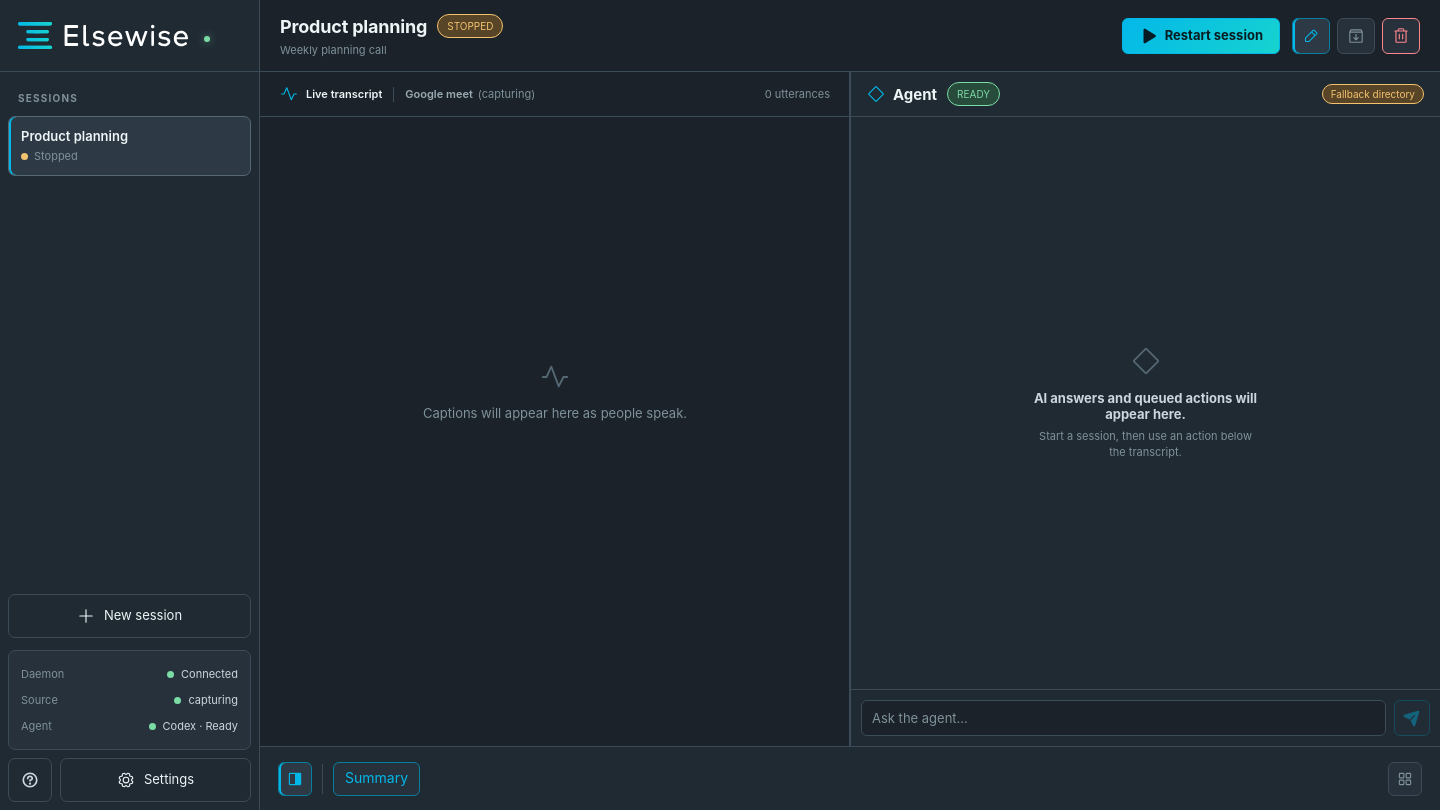
Test: App accessibility › confirms session deletion with an in-app dialog
Expected: the heading "Product planning" is shown, [280,16,427,36]
Click the button named "Delete session". click: [1401, 36]
box: [1382,18,1420,54]
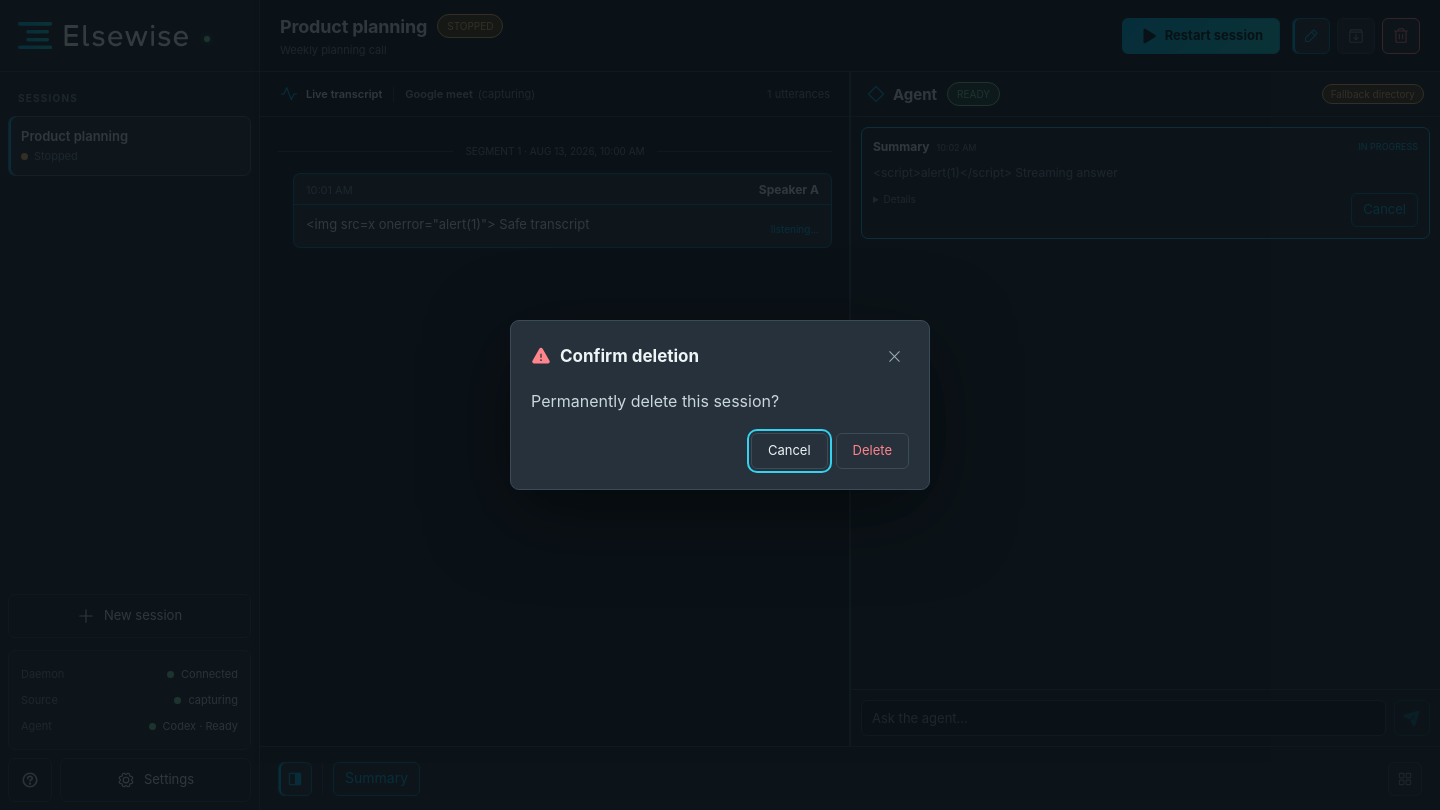
Expected: the text "Permanently delete this session?" is shown, [531,391,779,411]
Click the button "Delete". click: [872, 451]
box: [836,433,909,469]
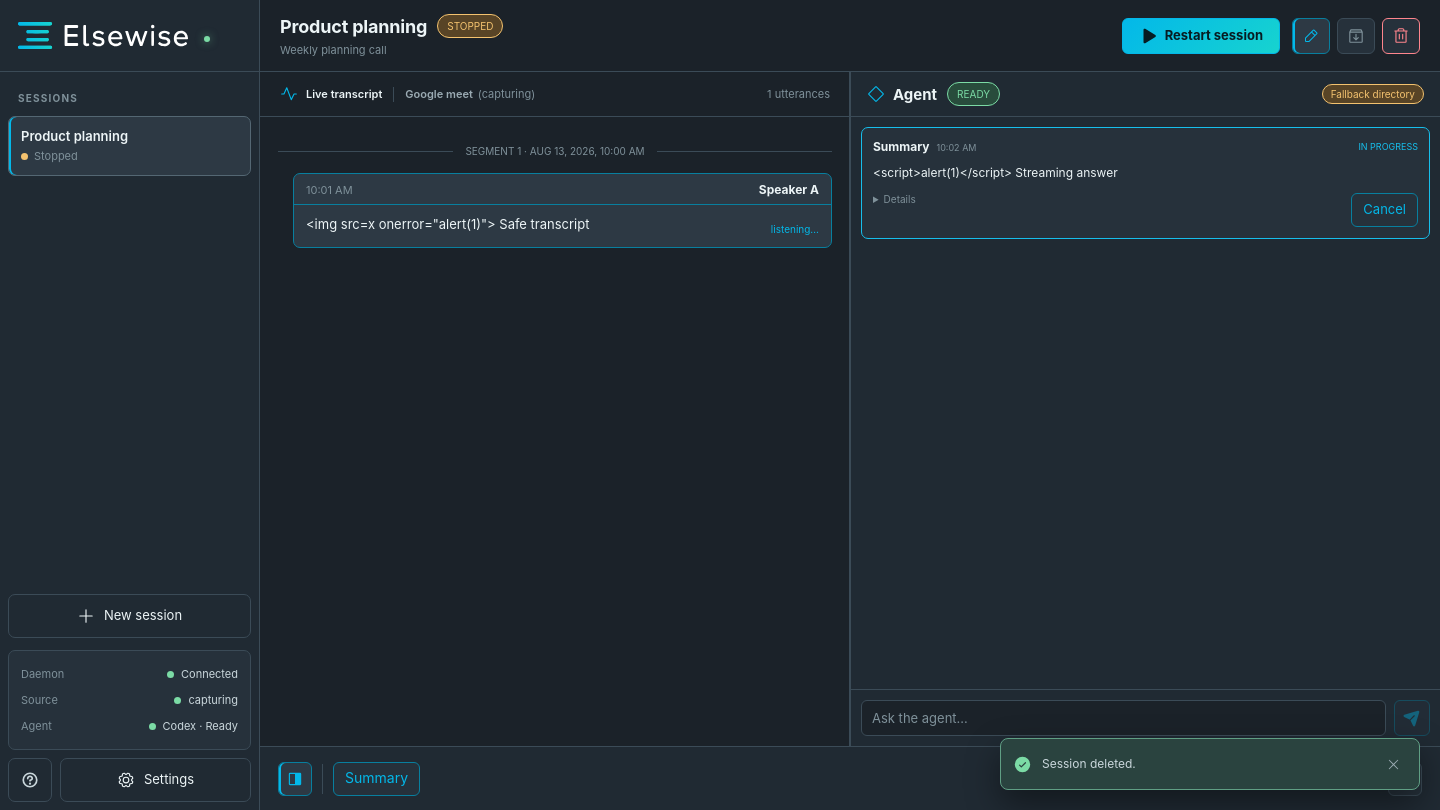
Expected: the message reads "Session deleted.", [1042,756,1136,771]
